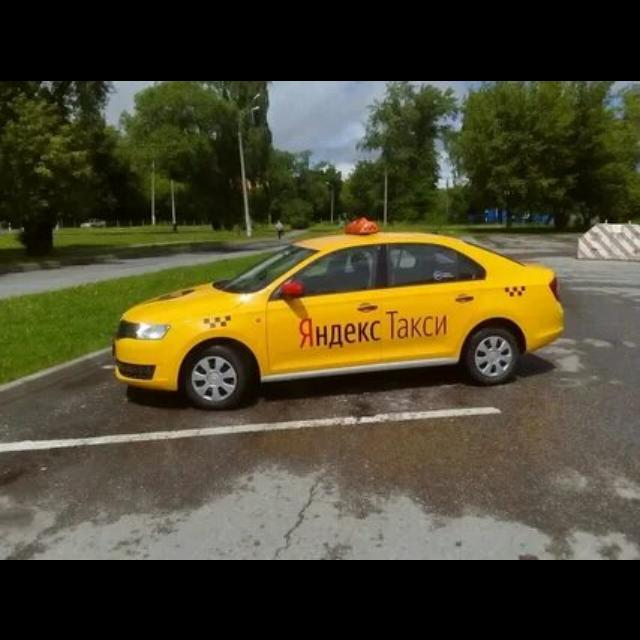taxi: (112, 217, 564, 410)
